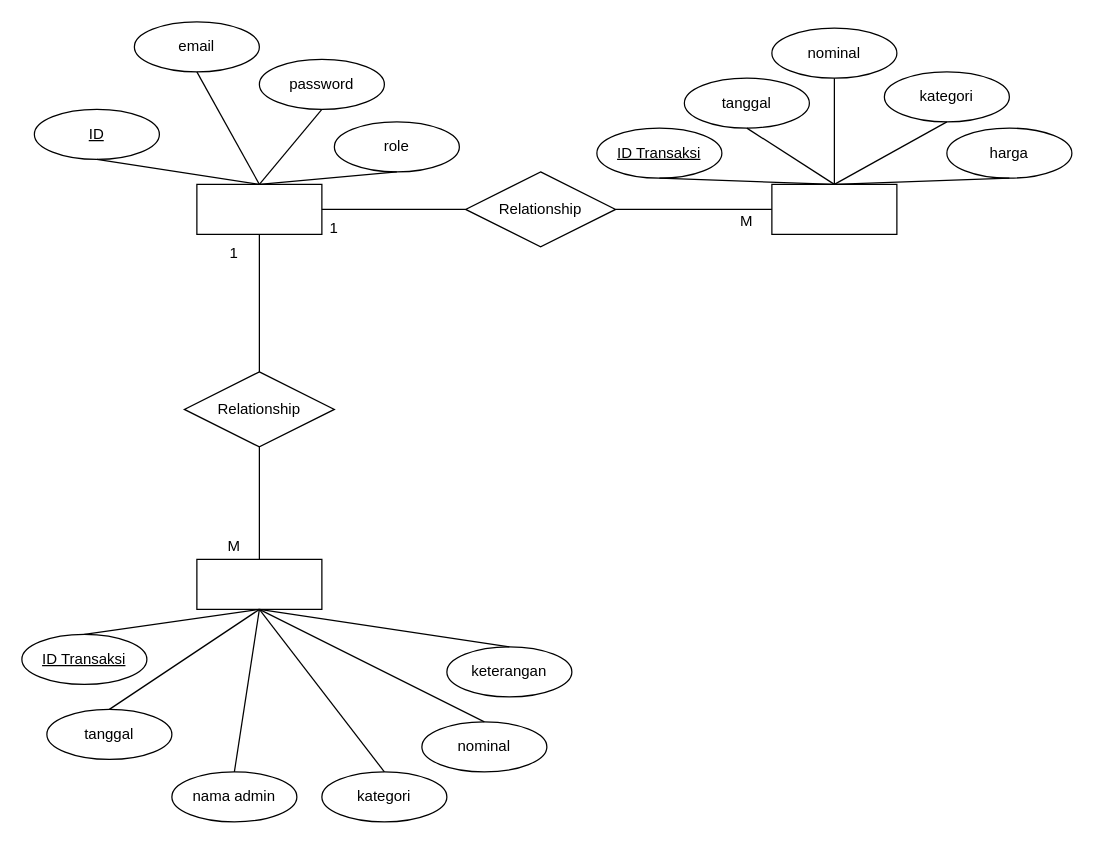
Some shapes in this 1094 by 844 pixel diagram are drawn without their labels. Each missing label, with the centre of its shape:
Admin: point (259, 208)
Expense: point (259, 583)
Income: point (834, 208)
